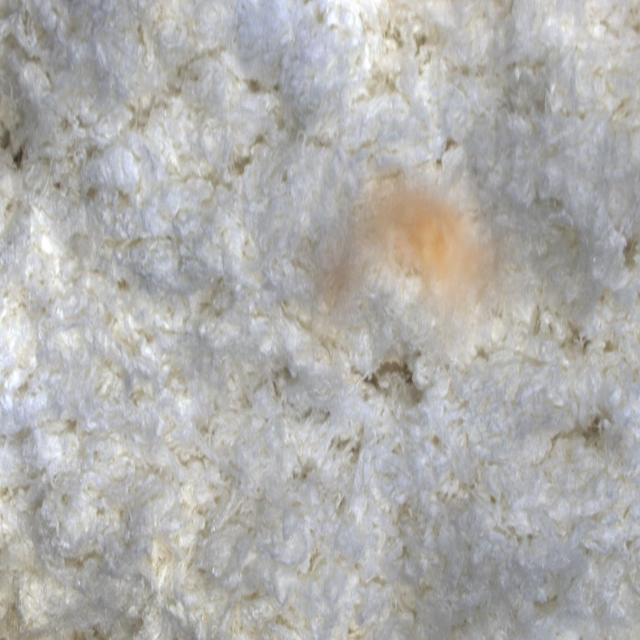dust: (310, 158, 525, 365)
